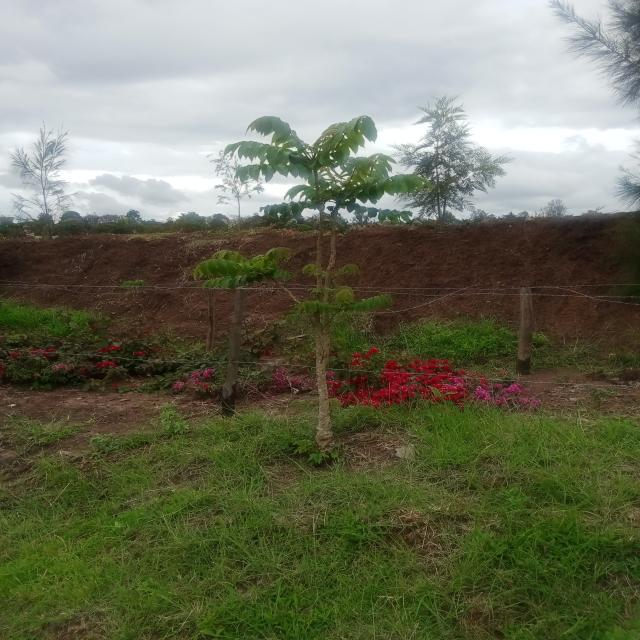Polyscias Kikuyensis: (178, 108, 425, 459)
